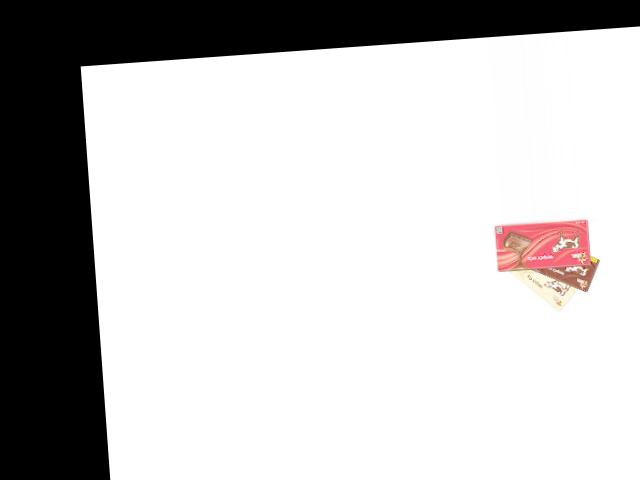chocolate: (499, 257, 589, 316)
